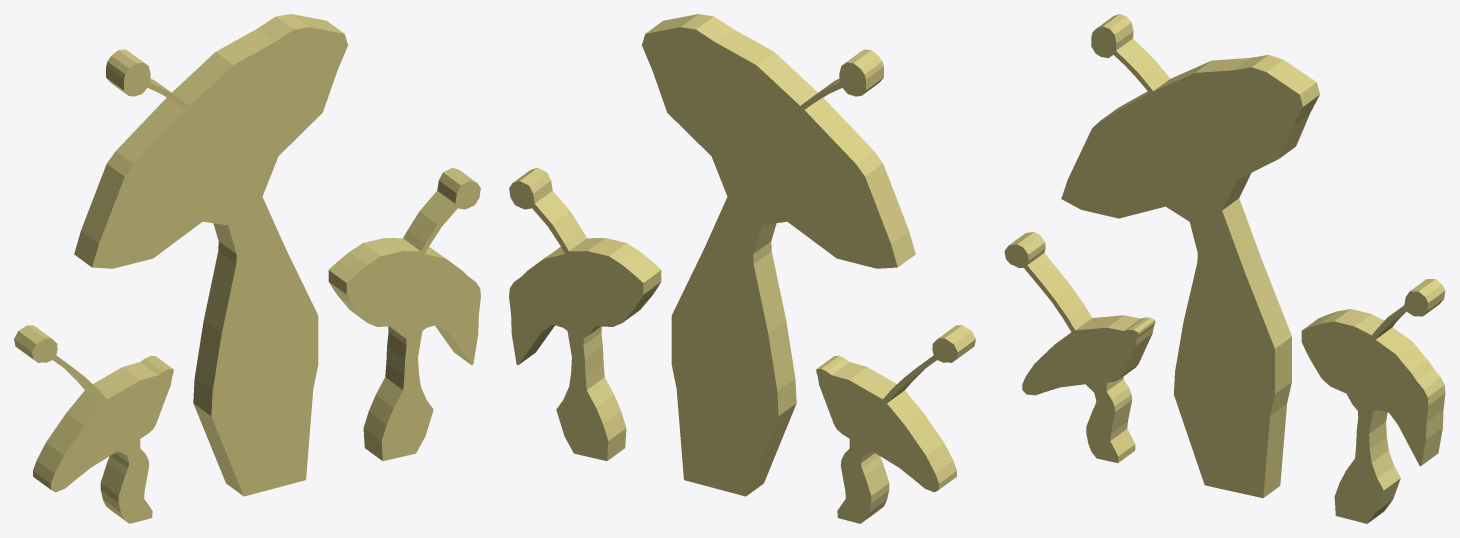
File: Mushroom_3.fbx
The picture shows the model from 3 angles, left to right: view 1: azimuth 30°, elevation 25°; view 2: azimuth 150°, elevation 25°; view 3: azimuth 330°, elevation 25°; orthographic projection. The views are drawn at different scales.
Visible parts, largest first — view 1: polySurface8, polySurface7, polySurface5; view 2: polySurface8, polySurface7, polySurface5; view 3: polySurface8, polySurface7, polySurface5.
Part boxes in pixels (bbox=[...]): polySurface8: bbox=[74, 14, 347, 496]; polySurface7: bbox=[328, 168, 480, 460]; polySurface5: bbox=[14, 325, 173, 523]; polySurface8: bbox=[642, 14, 915, 496]; polySurface7: bbox=[509, 168, 661, 460]; polySurface5: bbox=[816, 325, 975, 523]; polySurface8: bbox=[1061, 14, 1319, 497]; polySurface7: bbox=[1301, 279, 1445, 523]; polySurface5: bbox=[1004, 232, 1155, 462].
Bounding box in the file's own units: 0.2493 × 0.2439 × 0.0174.
